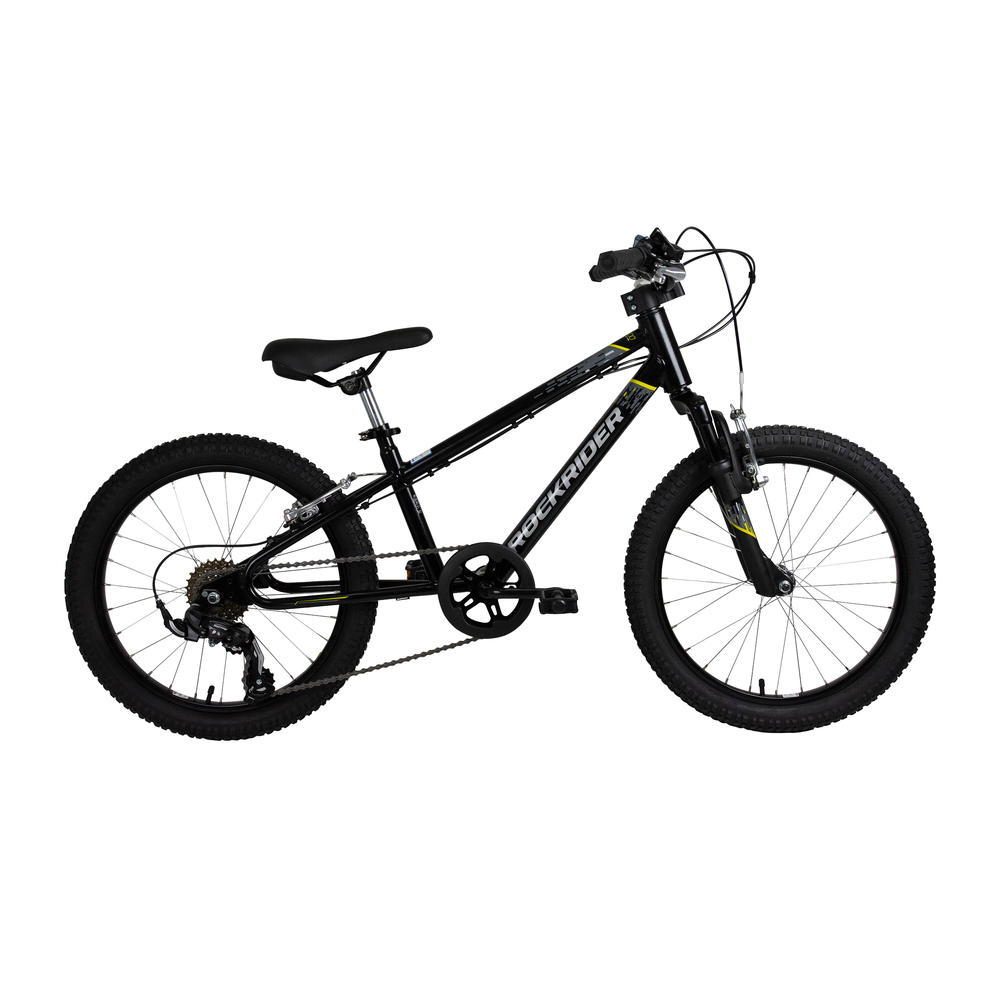RoadBike: (139, 202, 867, 797)
